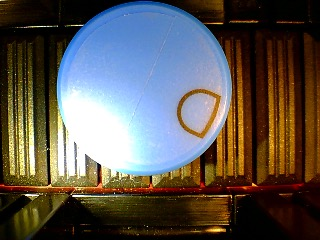MIPO1: (55, 1, 232, 176)
